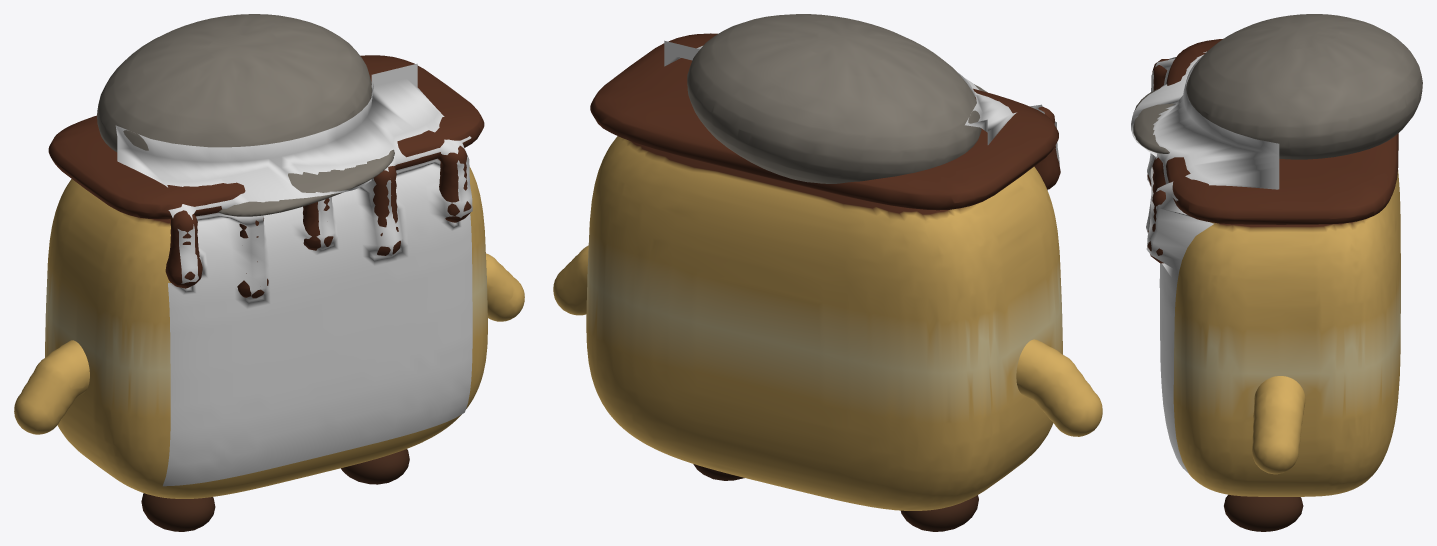
Rendered from folk2_sully.glb.
3 views of the same model, side by side, from view 1: azimuth 30°, elevation 25°; view 2: azimuth 150°, elevation 25°; view 3: azimuth 270°, elevation 25° (orthographic). The views are drawn at different scales.
Visible parts, largest first — view 1: sully_face, sully_body, sully_arm_l, sully_foot_l, sully_arm_r, sully_foot_r; view 2: sully_body, sully_arm_l, sully_face, sully_arm_r, sully_foot_l; view 3: sully_body, sully_face, sully_arm_r, sully_foot_r.
Part boxes in pixels (left/top/right/bottom): sully_face: left=115, top=63, right=472, bottom=486; sully_body: left=45, top=14, right=487, bottom=498; sully_arm_l: left=14, top=340, right=89, bottom=434; sully_foot_l: left=141, top=493, right=215, bottom=531; sully_arm_r: left=486, top=253, right=524, bottom=321; sully_foot_r: left=341, top=449, right=409, bottom=484; sully_body: left=586, top=14, right=1062, bottom=510; sully_arm_l: left=1016, top=339, right=1102, bottom=436; sully_face: left=664, top=40, right=1059, bottom=190; sully_arm_r: left=553, top=245, right=588, bottom=315; sully_foot_l: left=901, top=495, right=978, bottom=531; sully_body: left=1133, top=14, right=1422, bottom=496; sully_face: left=1131, top=51, right=1279, bottom=473; sully_arm_r: left=1252, top=376, right=1305, bottom=474; sully_foot_r: left=1224, top=494, right=1303, bottom=531.
Size of the model in its own units: 1.24 by 1.06 by 0.6368.
